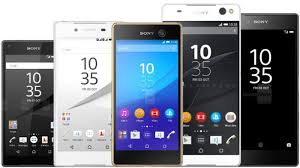sony: (160, 1, 244, 166), (111, 20, 185, 166), (238, 11, 299, 166), (53, 19, 116, 165), (1, 37, 54, 168)
